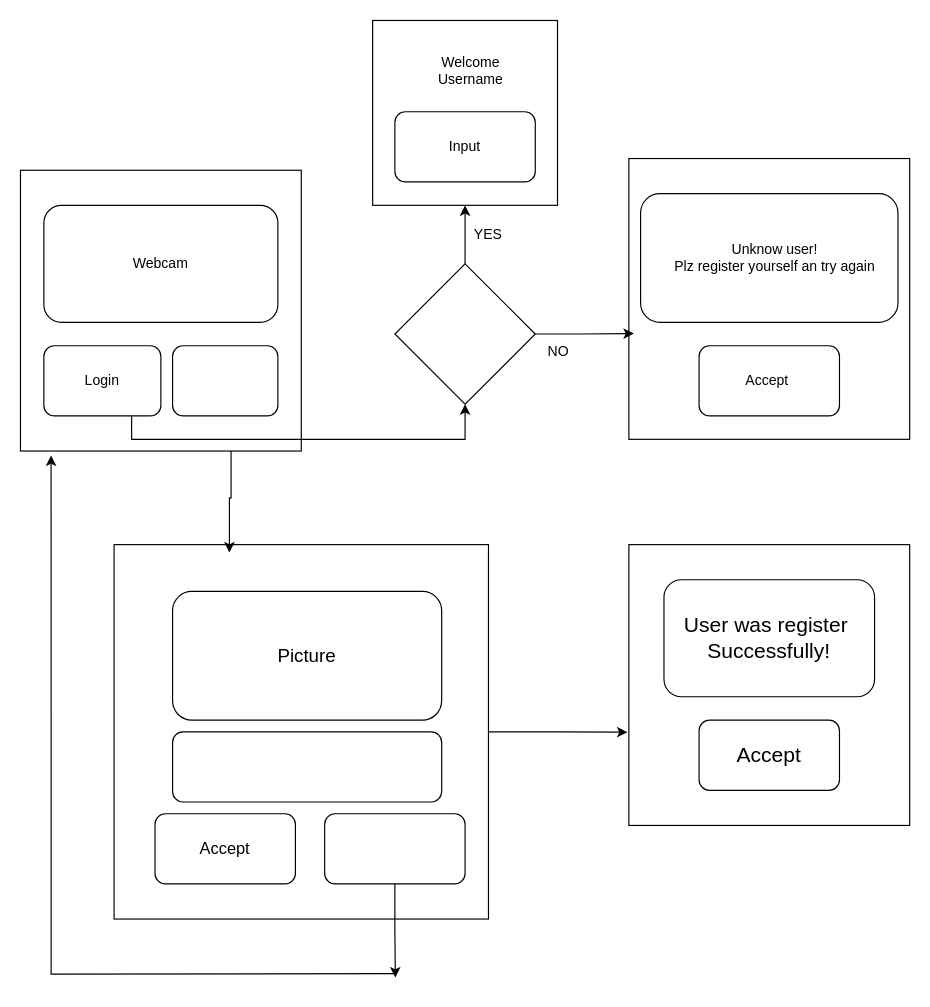
This 930x1007 diagram has some shape labels left out. The shapes that lost their labels are listed below. From the top down, each one's centre as x and y in pixels, then its label:
At [464,333]: "User in Database?".
At [224,380]: "Register New user".
At [306,766]: "Plz input Usename".
At [394,848]: "Try Again".
